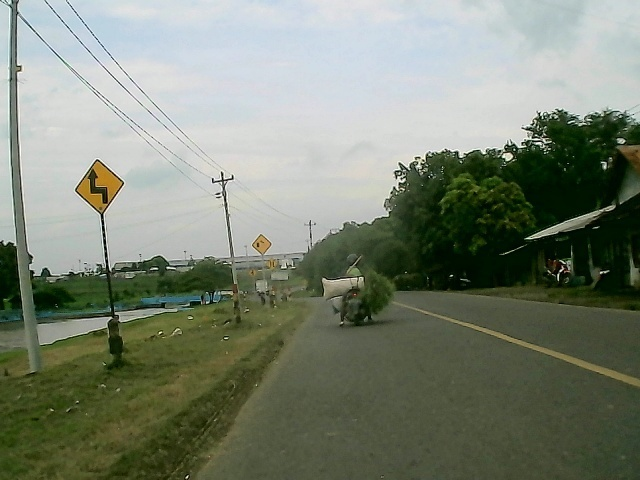Peringatan tepi air: (251, 232, 273, 259)
Tikungan garda pertama kiri: (73, 157, 127, 215)
